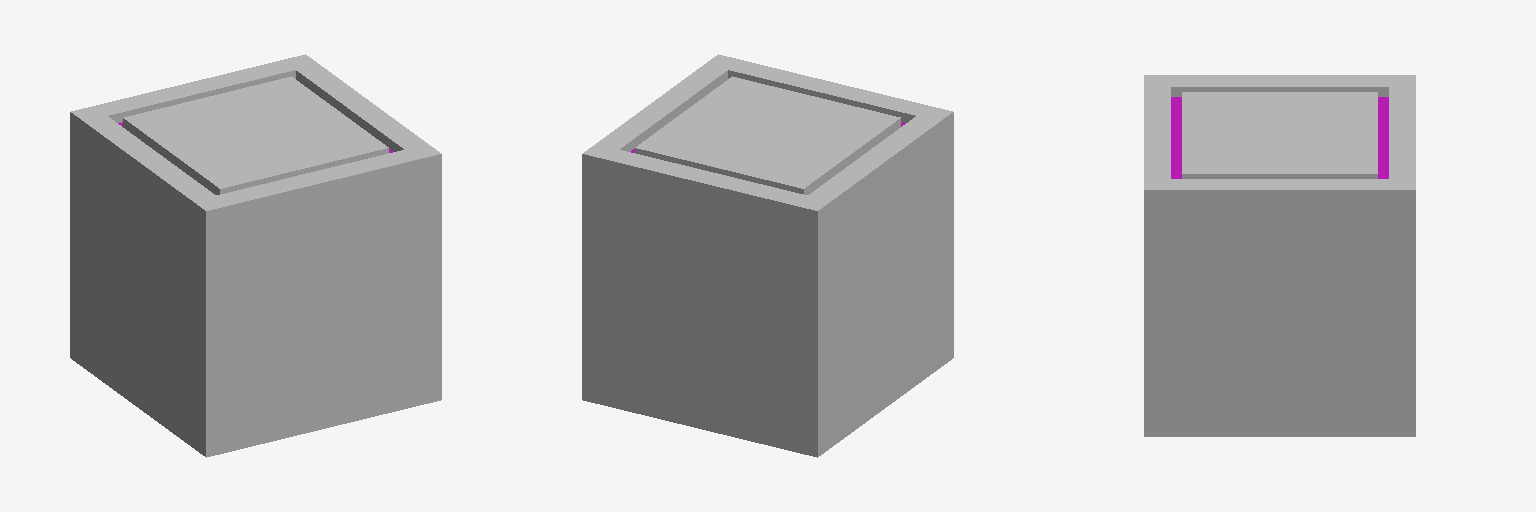
Rendered from save_cube.obj.
3 views of the same model, side by side, from view 1: azimuth 30°, elevation 25°; view 2: azimuth 150°, elevation 25°; view 3: azimuth 270°, elevation 25° (orthographic).
Parts seen in each view (by area): view 1: Cube_save; view 2: Cube_save; view 3: Cube_save.
Part boxes in pixels (x1,y1,x2,y2): Cube_save: (70,54,441,457); Cube_save: (582,54,953,457); Cube_save: (1144,75,1415,436).
Bounding box in the file's own units: 2 × 2 × 2.